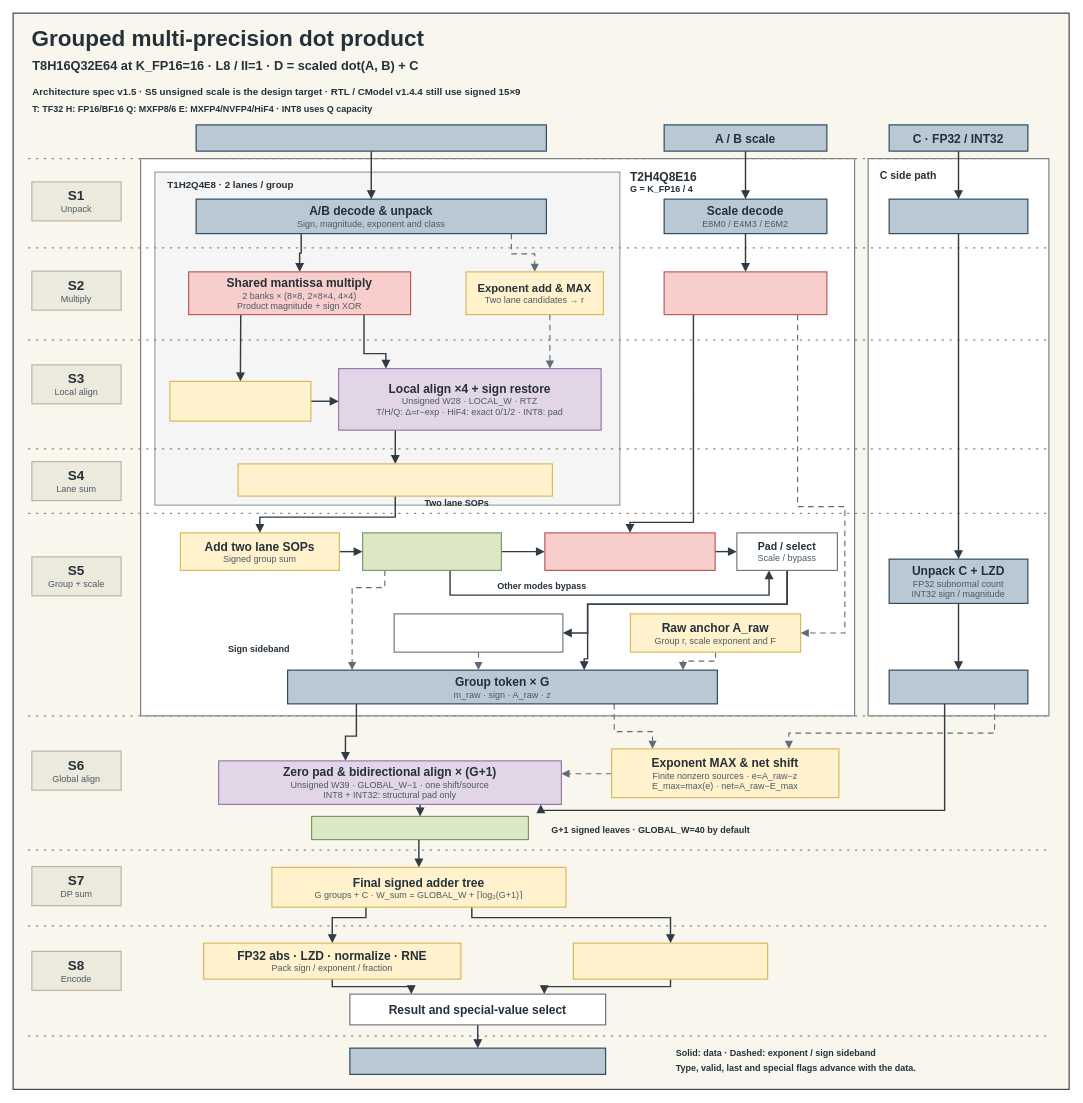
Some shapes in this 1083 by 1103 pixel diagram are drawn without their labels. The shapes that lost their labels are listed below. From the top down, each one's box as (x1, y1, x2, y2) in pixels, then its label:
(195, 124, 547, 151): Packed A / B + HiF4 metadata
(888, 198, 1028, 234): Raw C32 S1–S4 registers
(663, 271, 827, 315): Scale precompute 4×4 coeff. + exponent sum
(169, 380, 311, 421): E pair add 8 signed products → 4
(237, 463, 553, 496): 4-way lane reduction tree Q/E/INT8: 4 leaves · H: 2 · T: bypass
(362, 532, 502, 571): Sign & magnitude 14-bit tap for NV/HiF
(544, 532, 715, 571): Unsigned 14×8 scale NVFP4 / HiF4 · W22 out
(393, 613, 563, 652): LZD · count only Group z from padded magnitude
(888, 669, 1028, 704): C token m_raw · sign · A_raw · z
(311, 815, 529, 840): Restore two’s complement
(572, 942, 768, 979): INT32 wrap Drop structural low zeros
(349, 1047, 606, 1075): D · FP32 / INT32
